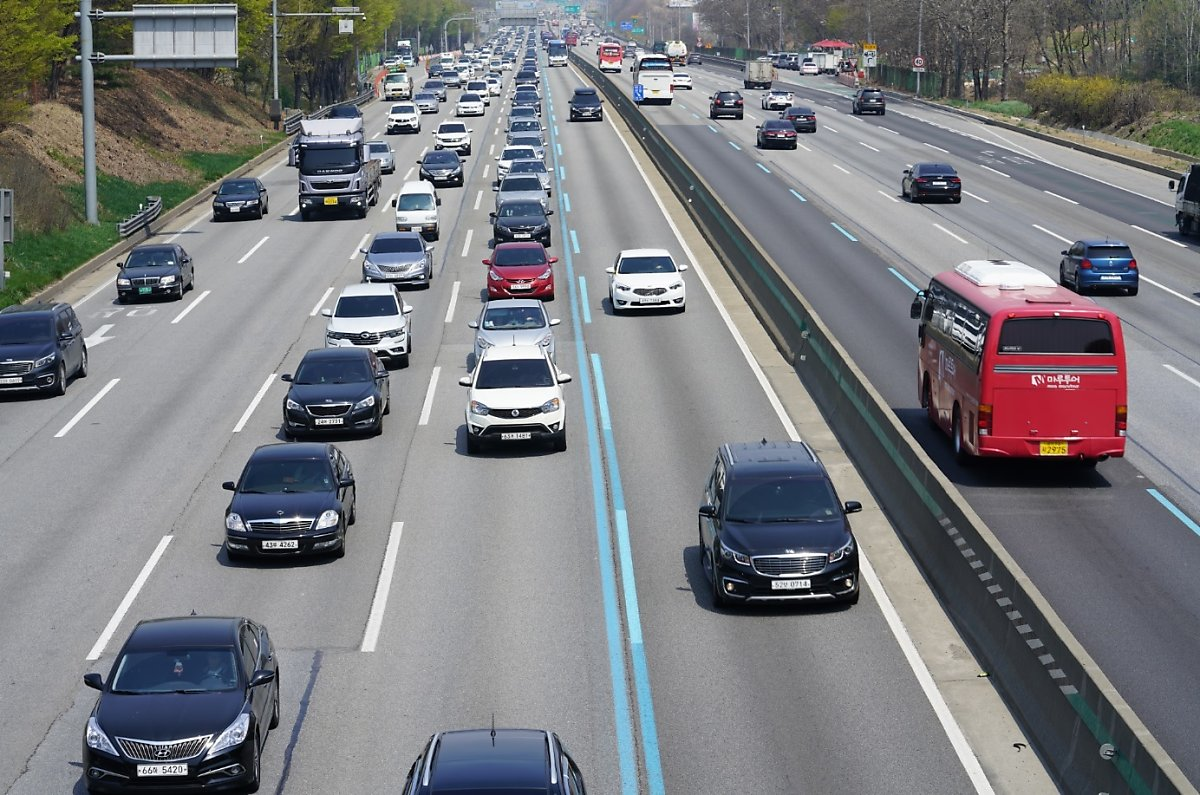Car: (919, 266, 1129, 482), (90, 618, 279, 789), (702, 441, 864, 616), (215, 445, 359, 561), (463, 351, 569, 450), (283, 351, 393, 435), (287, 126, 379, 216), (2, 304, 88, 390), (332, 285, 407, 361), (605, 252, 685, 316), (473, 302, 558, 361), (114, 246, 192, 300), (1068, 245, 1147, 297), (483, 244, 554, 296), (365, 235, 431, 283), (391, 185, 442, 240), (900, 163, 967, 202), (213, 176, 267, 218), (496, 205, 552, 241), (418, 150, 466, 190), (631, 58, 672, 103), (565, 88, 602, 123), (497, 180, 547, 205), (753, 122, 797, 148), (508, 161, 549, 188), (434, 123, 470, 153), (709, 92, 745, 120), (385, 70, 414, 101), (848, 90, 886, 113), (362, 141, 392, 170), (388, 101, 418, 129), (778, 108, 816, 130), (743, 61, 772, 88), (597, 44, 625, 71), (458, 95, 484, 120), (548, 41, 572, 67), (761, 90, 796, 107), (414, 93, 439, 113), (797, 61, 821, 78), (667, 71, 690, 88)
